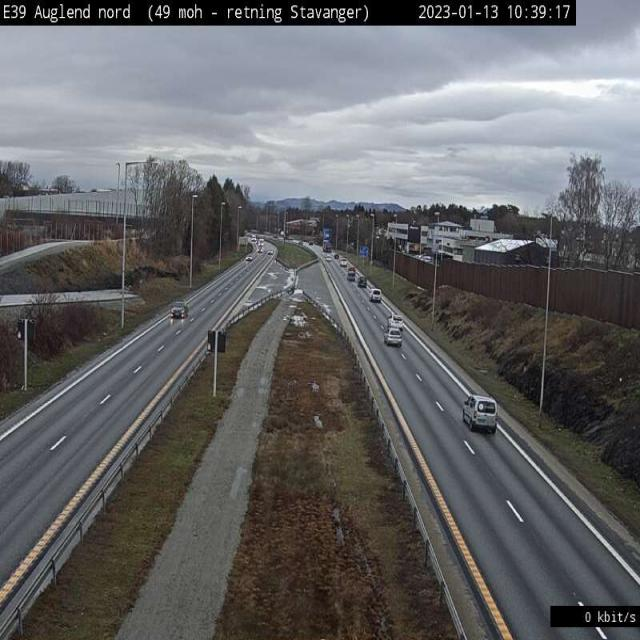car: (475, 239, 531, 253), (384, 321, 404, 346), (170, 302, 188, 321), (368, 286, 382, 303)
